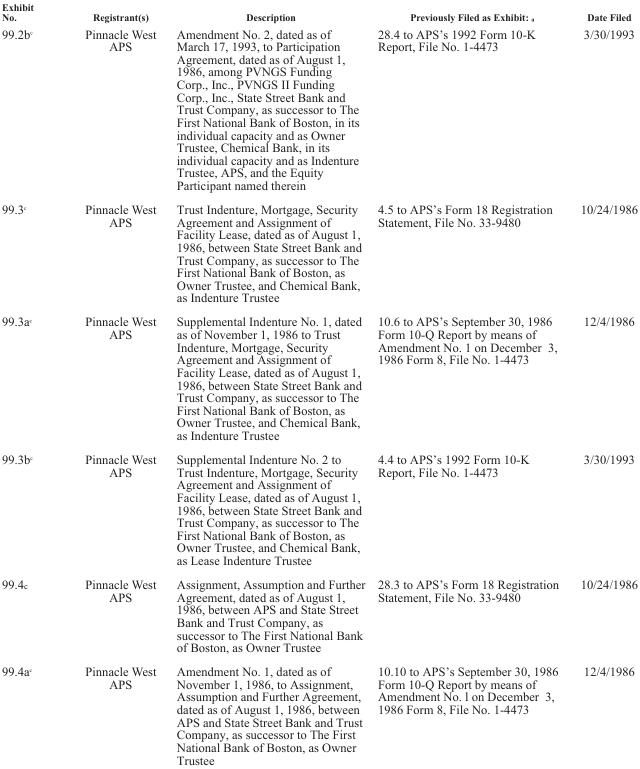table: (1, 1, 637, 766)
table column: (165, 1, 370, 766), (370, 1, 568, 766), (58, 1, 165, 766), (568, 1, 637, 766), (1, 1, 58, 766)
table column header: (1, 1, 637, 24)
table row: (1, 24, 637, 196), (1, 309, 637, 446), (1, 446, 637, 571), (1, 196, 637, 309), (1, 658, 637, 766), (1, 571, 637, 658), (1, 1, 637, 24)
